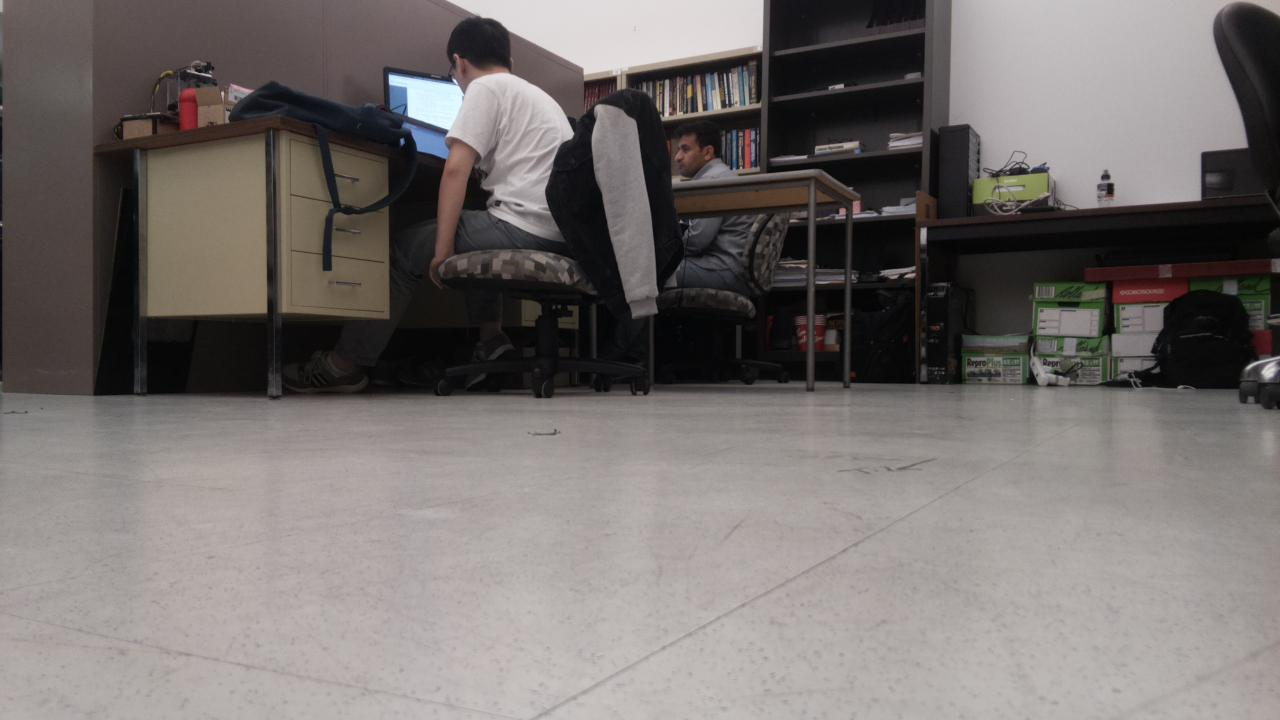person: (280, 16, 576, 395), (673, 121, 761, 298)
